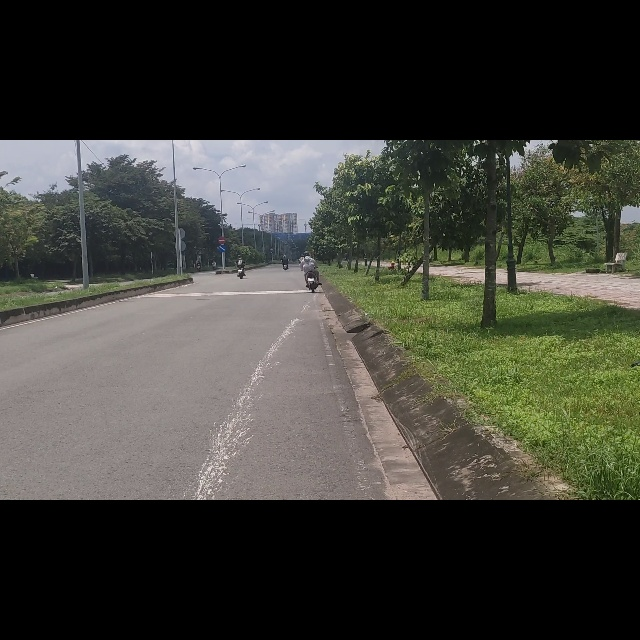bien_cam: (218, 187, 226, 199), (218, 171, 225, 184)
